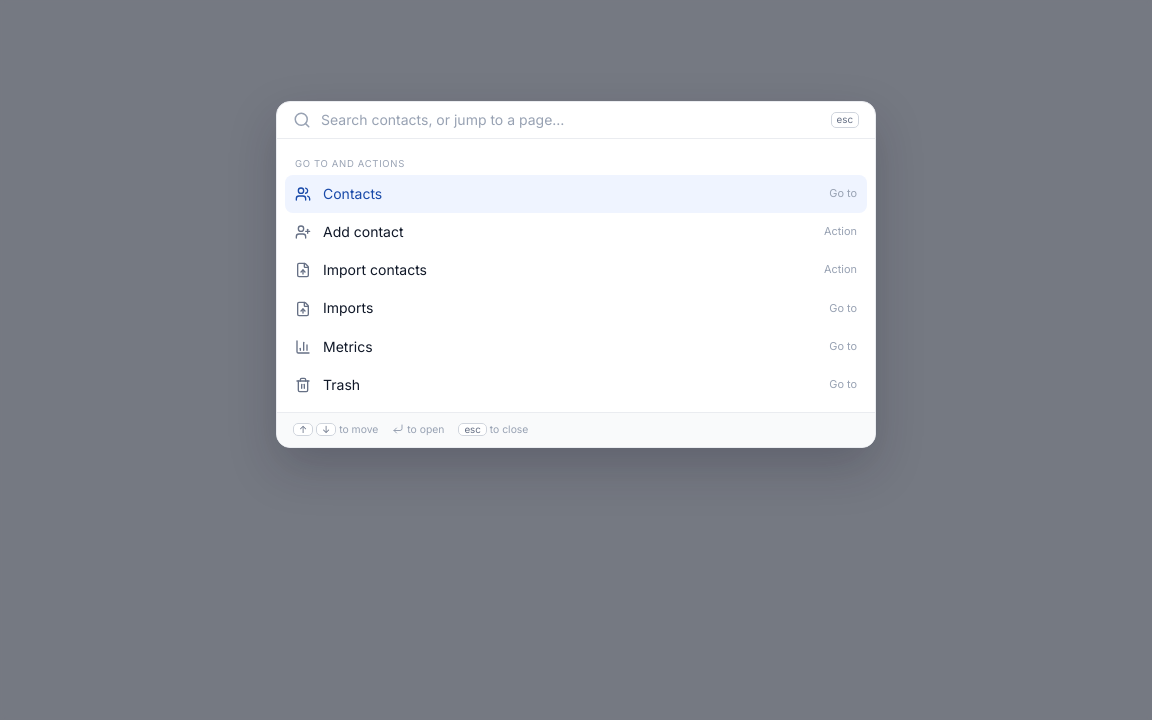
Test case: CommandPalette › searches contacts after a short pause, and shows them above the pages
This screenshot has width=1152, height=720.
Type "ad" into the dropdown with placeholder "Search contacts, or jump to a page…" at (571, 120), box [321, 102, 820, 138]
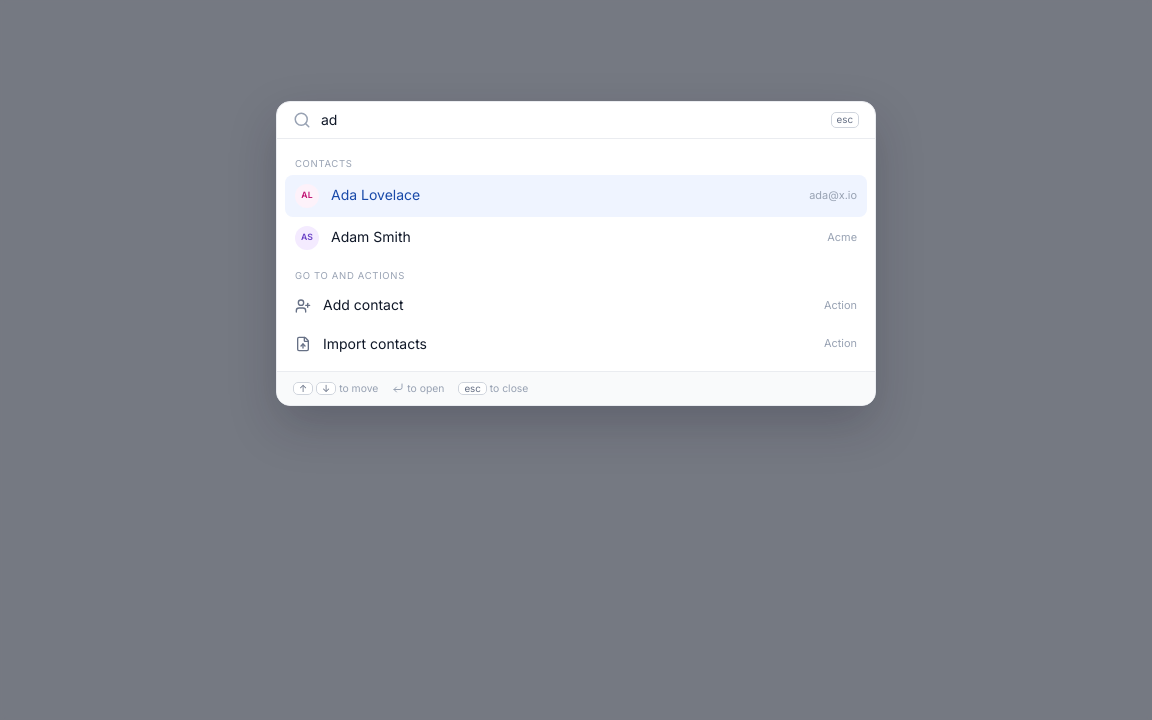
Expected: the option "AL Ada Lovelace ada@x.io" is shown, [285, 175, 867, 217]
Expected: the option "AS Adam Smith Acme" is shown, [295, 226, 857, 250]
